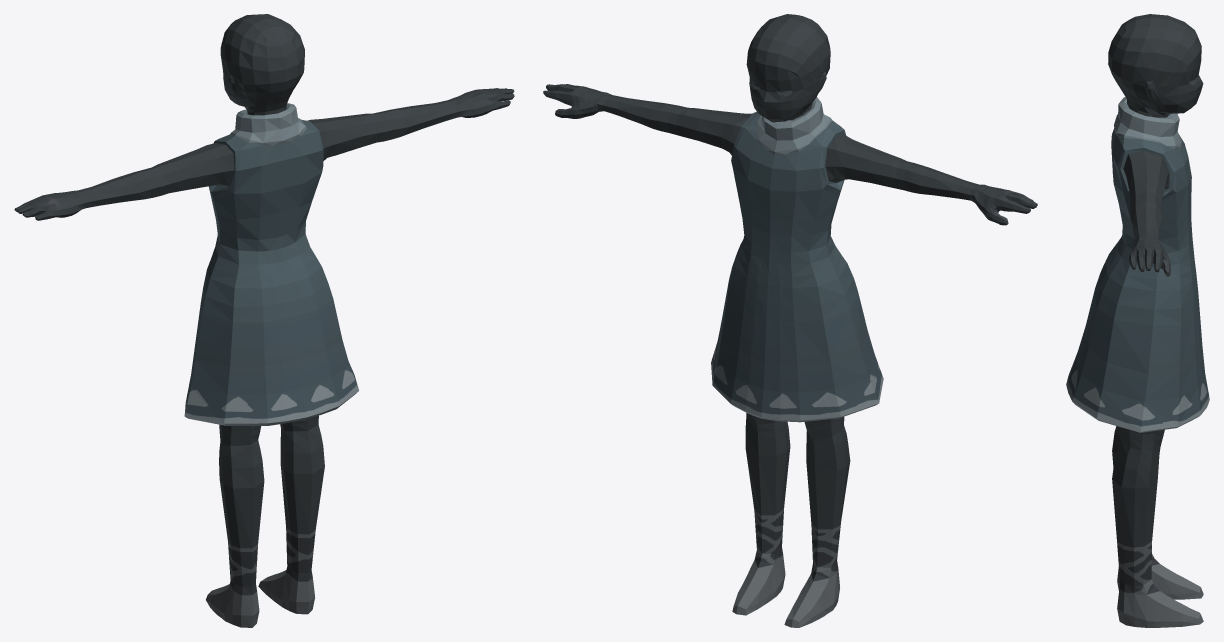
The model's file is CharSkyNPC_Body_YoungFemaleRig.glb.
3 renders of one model, left to right at view 1: azimuth 30°, elevation 25°; view 2: azimuth 150°, elevation 25°; view 3: azimuth 270°, elevation 25°, orthographic.
Parts seen in each view (by area): view 1: CharSkyNPC_Body_YoungFemaleRig; view 2: CharSkyNPC_Body_YoungFemaleRig; view 3: CharSkyNPC_Body_YoungFemaleRig.
Boxes of the visible parts, box(x1,y1,x2,y2) form: CharSkyNPC_Body_YoungFemaleRig: box(14, 14, 514, 627); CharSkyNPC_Body_YoungFemaleRig: box(543, 14, 1037, 627); CharSkyNPC_Body_YoungFemaleRig: box(1066, 14, 1209, 627).
Size of the model in its own units: 12.42 by 14.14 by 3.12.
Materials: 1 (1 with a texture image).
